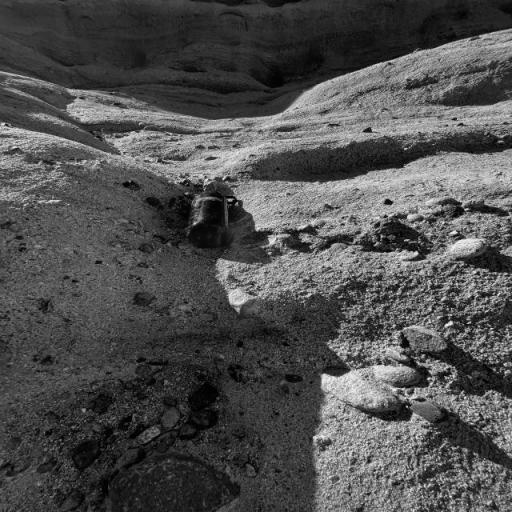bottle: (186, 190, 237, 248)
